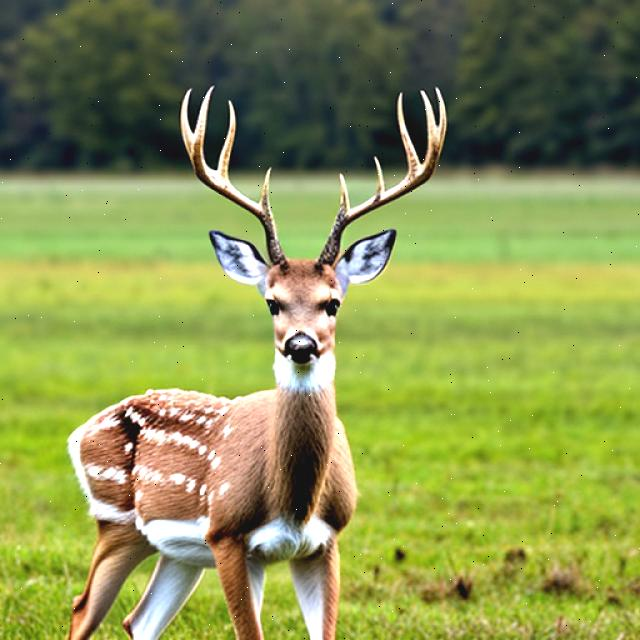deer: (51, 56, 463, 640)
